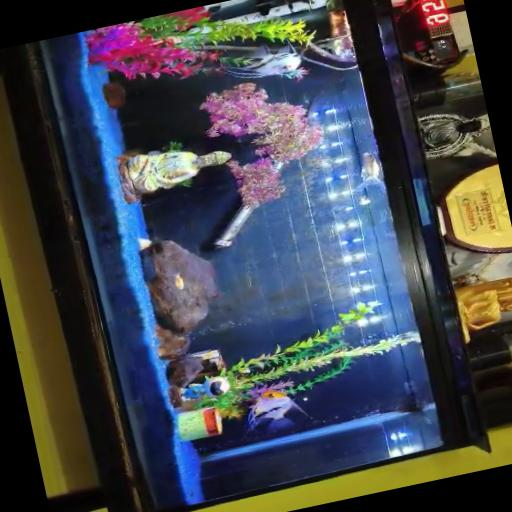Fish: (224, 42, 300, 78), (247, 390, 306, 430), (353, 151, 382, 192)
